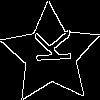K: (26, 29, 72, 65)
